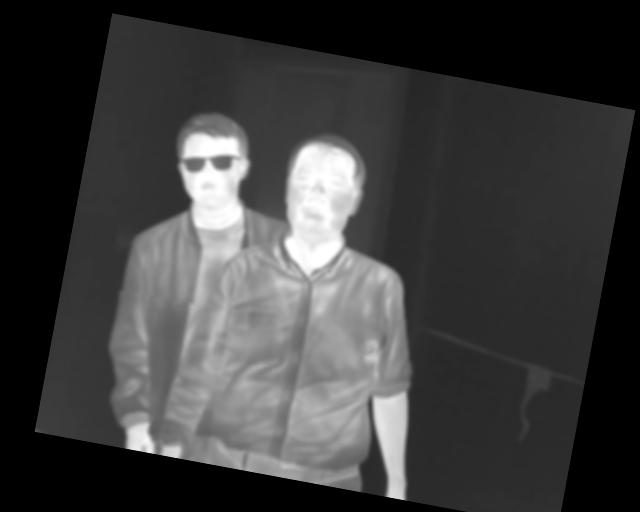face: (276, 126, 373, 248), (165, 105, 259, 214)
